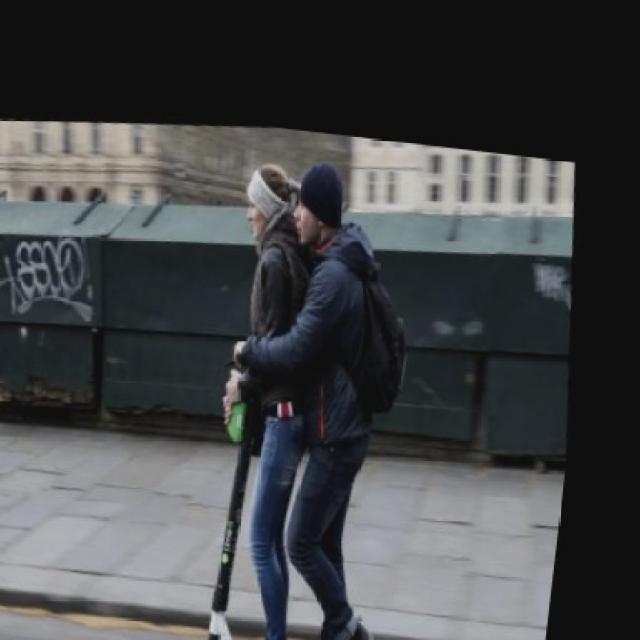bare_head: (279, 155, 348, 252), (227, 160, 294, 240)
human: (281, 159, 399, 639), (231, 162, 312, 640)
kickboard: (201, 616, 381, 640)
